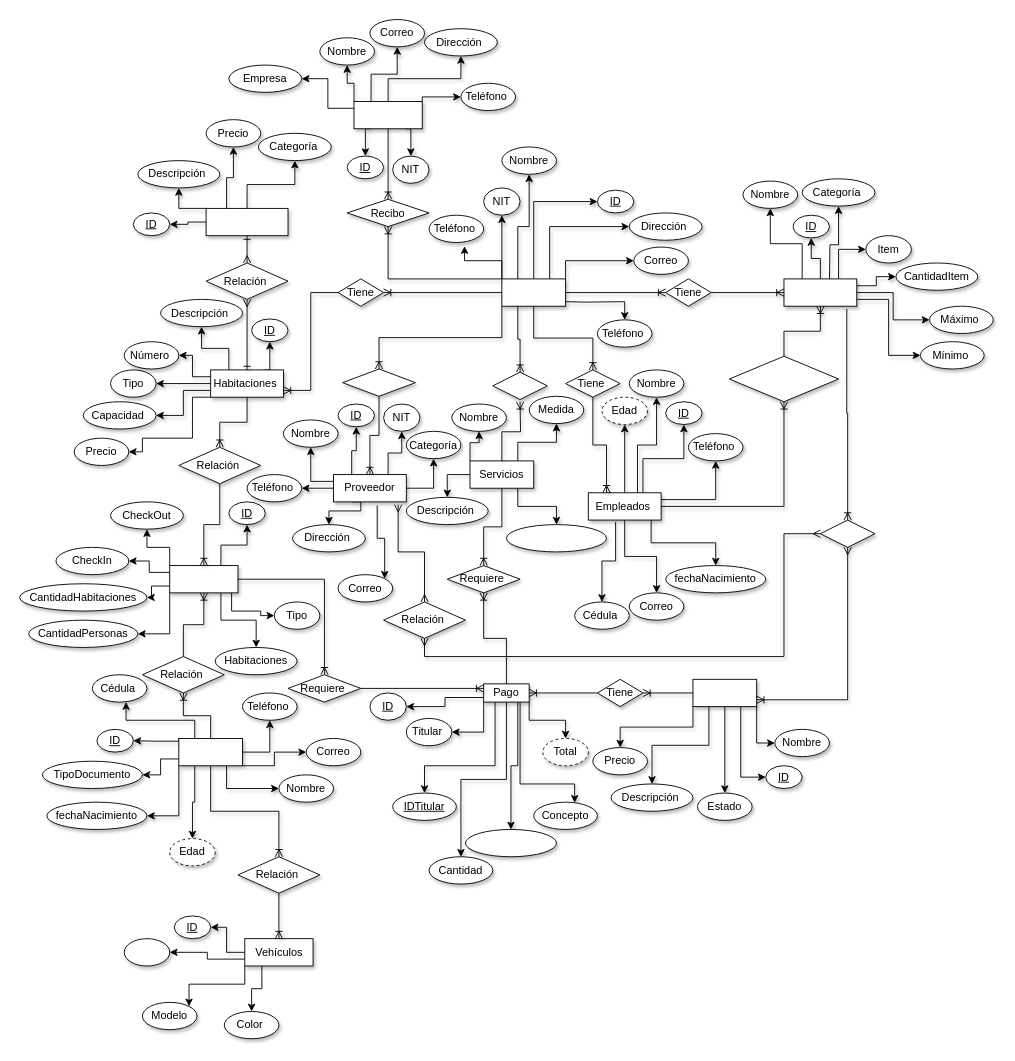
This 1015x1061 diagram has some shape labels left out. Each missing label, with the centre of its shape:
Compra a: point 379,383
CostoXMedidad: point 557,539
Hospedaje: point 204,580
Huésped: point 211,753
Inventario: point 820,293
Mantenimiento: point 247,223
MedioDePago: point 511,844
Ofrece: point 520,387
Pedido: point 848,535
Placa: point 147,953
Productos: point 725,694
Responsable de: point 784,380
Servicios públicos: point 388,116
Sucursal: point 534,293
